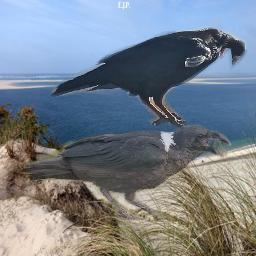Crow: (16, 122, 232, 222), (48, 26, 247, 129)
